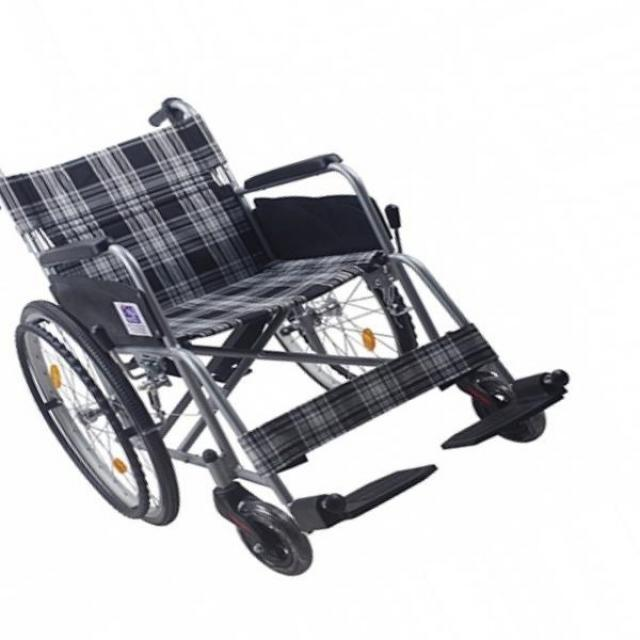wheelchair: (0, 88, 598, 640)
